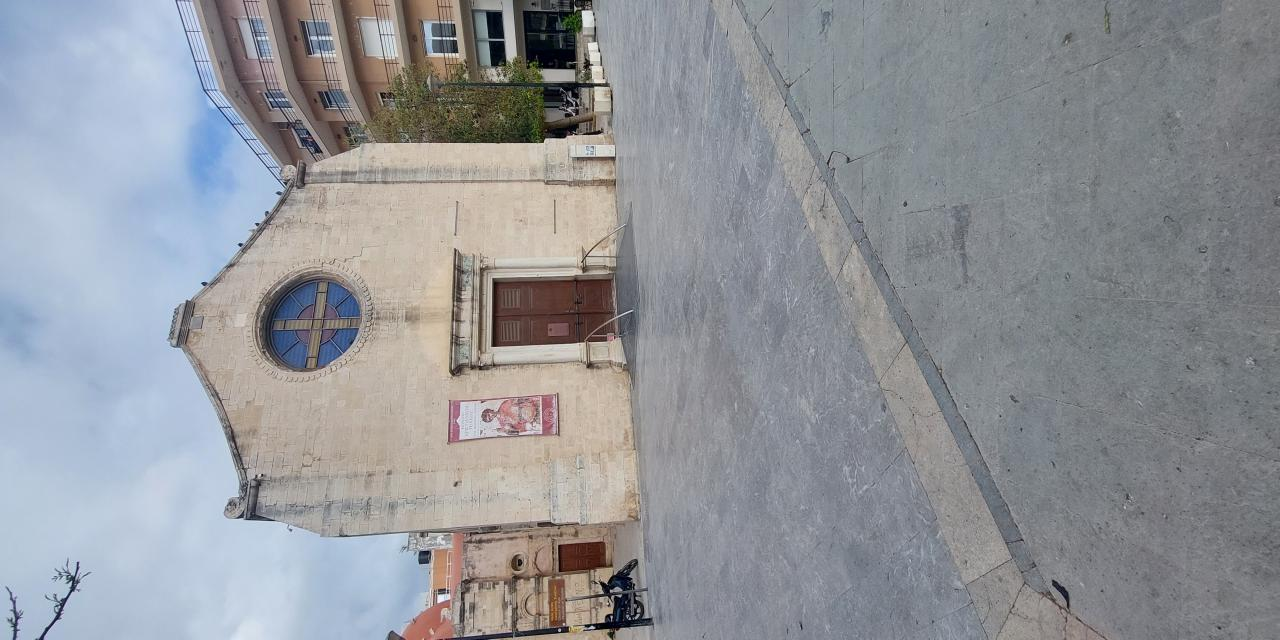Agia Aikaterini: (88, 180, 451, 640)
